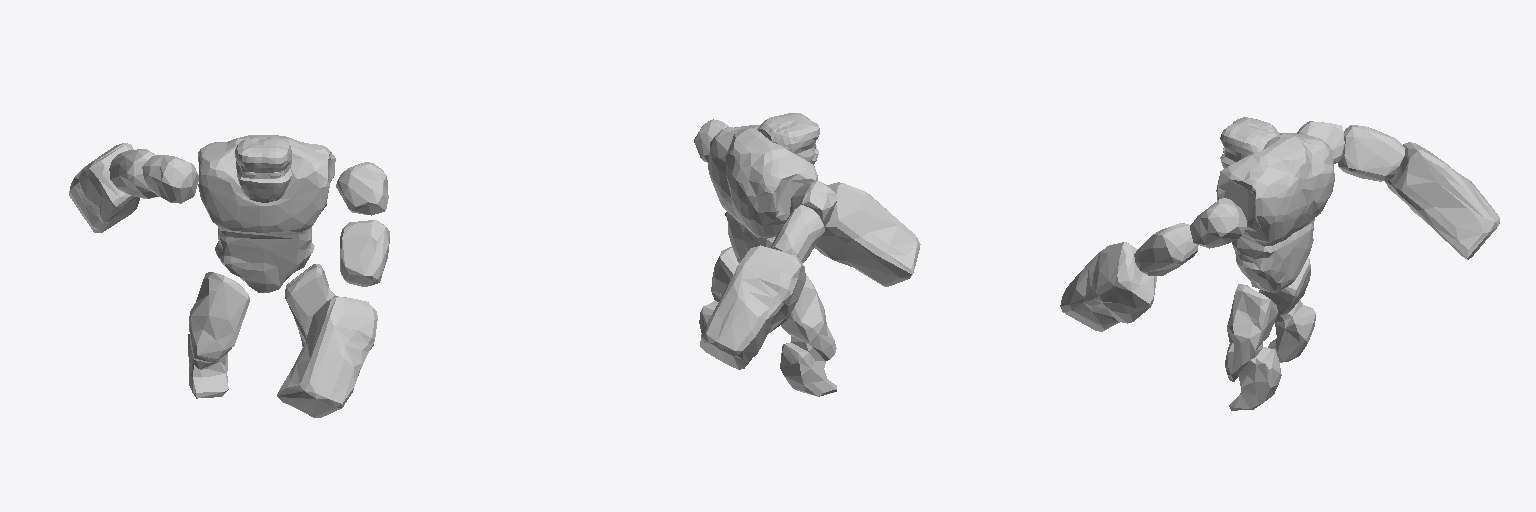
File: Ataque4.obj
3 views of the same model, side by side, from view 1: azimuth 30°, elevation 25°; view 2: azimuth 150°, elevation 25°; view 3: azimuth 270°, elevation 25° (orthographic).
Parts seen in each view (by area): view 1: Stone1:Mesh; view 2: Stone1:Mesh; view 3: Stone1:Mesh.
Part boxes in pixels (bbox=[...]): Stone1:Mesh: bbox=[69, 135, 389, 417]; Stone1:Mesh: bbox=[694, 113, 920, 396]; Stone1:Mesh: bbox=[1060, 117, 1499, 410].
Bounding box in the file's own units: 8.13 × 9.76 × 15.42.